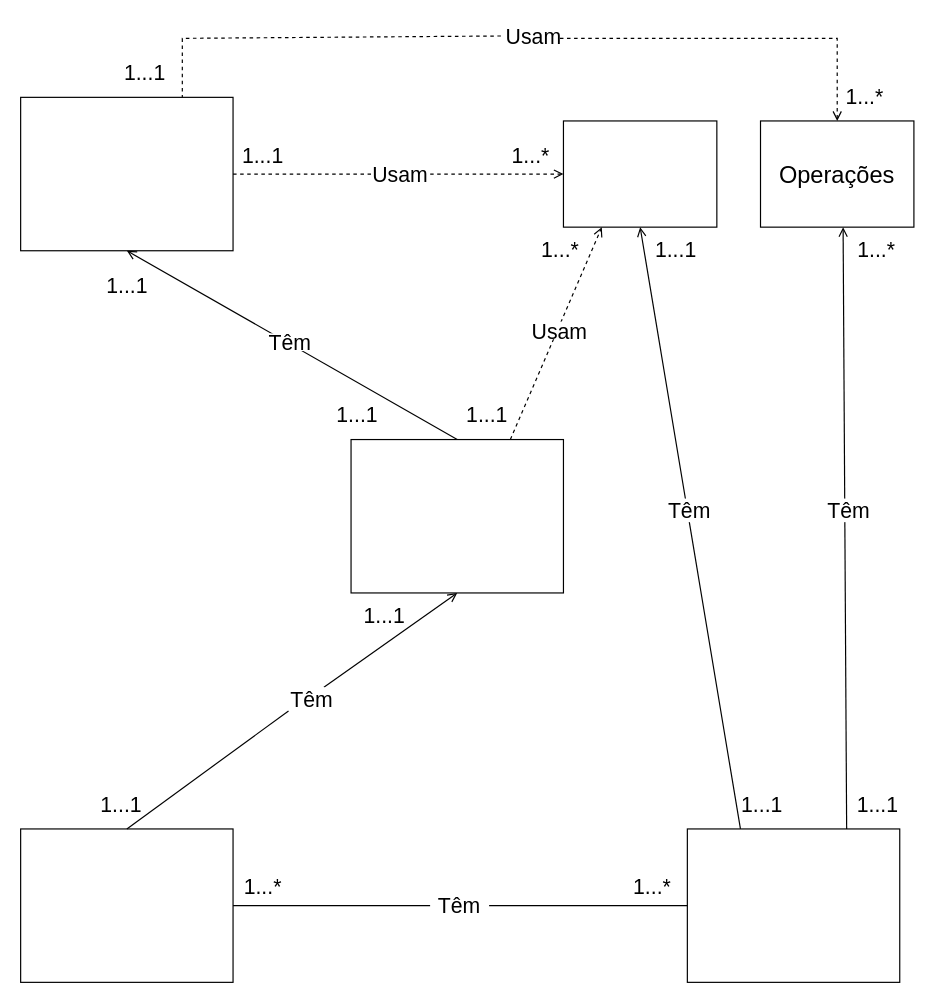
The diagram is 935 pixels wide and 1003 high, and some of its shapes have lost their labels. The centre of each missing label's shape, as x and y in pixels:
"Botões" belongs at pixel 793 905.
"CPUs" belongs at pixel 456 515.
"Digitos" belongs at pixel 639 173.
"Teclados" belongs at pixel 126 905.
"Visores" belongs at pixel 126 173.
